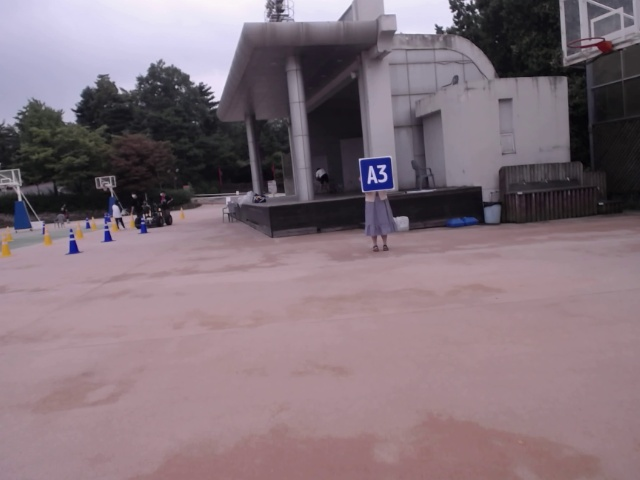delivery_a3: (359, 156, 395, 192)
